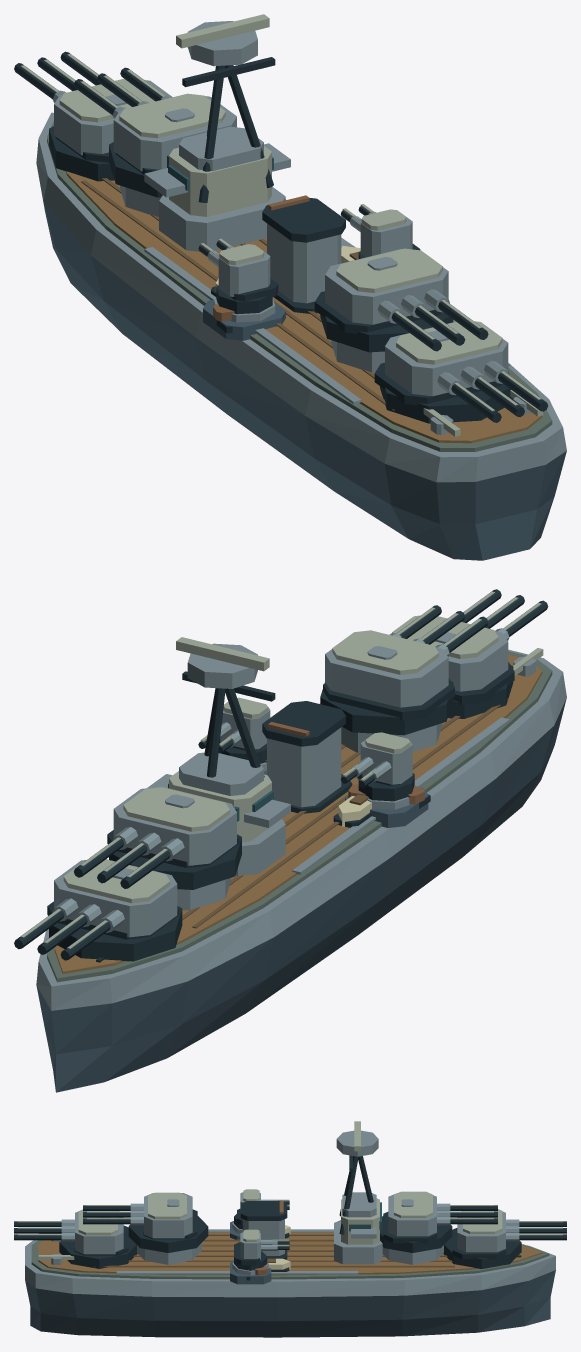
File: historic-arizona.glb
The picture shows the model from 3 angles, top to bottom: view 1: azimuth 30°, elevation 25°; view 2: azimuth 150°, elevation 25°; view 3: azimuth 270°, elevation 25°; orthographic projection. The views are drawn at different scales.
Parts seen in each view (by area): view 1: historic-arizona-historic-arizona-geometry, historic-arizona-part_bridge.007-geometry, historic-arizona-turret_main_2.005-geometry, historic-arizona-turret_main_3.002-geometry, historic-arizona-turret_main_1.005-geometry, historic-arizona-historic_funnel_0.008-geometry, historic-arizona-turret_main_0.006-geometry, historic-arizona-turret_aa_aa-port.009-geometry, historic-arizona-turret_aa_aa-starboard.007-geometry, historic-arizona-part_aa-port.009-geometry; view 2: historic-arizona-historic-arizona-geometry, historic-arizona-turret_main_2.005-geometry, historic-arizona-part_bridge.007-geometry, historic-arizona-turret_main_1.005-geometry, historic-arizona-turret_main_0.006-geometry, historic-arizona-historic_funnel_0.008-geometry, historic-arizona-turret_main_3.002-geometry, historic-arizona-turret_aa_aa-port.009-geometry, historic-arizona-turret_aa_aa-starboard.007-geometry, historic-arizona-part_aa-port.009-geometry; view 3: historic-arizona-historic-arizona-geometry, historic-arizona-turret_main_2.005-geometry, historic-arizona-part_bridge.007-geometry, historic-arizona-turret_main_1.005-geometry, historic-arizona-turret_main_0.006-geometry, historic-arizona-turret_main_3.002-geometry, historic-arizona-historic_funnel_0.008-geometry, historic-arizona-turret_aa_aa-starboard.007-geometry, historic-arizona-part_aa-starboard.007-geometry, historic-arizona-turret_aa_aa-port.009-geometry.
Part boxes in pixels (bbox=[...]): historic-arizona-historic-arizona-geometry: bbox=[36, 112, 566, 560]; historic-arizona-part_bridge.007-geometry: bbox=[144, 14, 290, 251]; historic-arizona-turret_main_2.005-geometry: bbox=[314, 248, 488, 352]; historic-arizona-turret_main_3.002-geometry: bbox=[374, 321, 548, 423]; historic-arizona-turret_main_1.005-geometry: bbox=[74, 67, 236, 197]; historic-arizona-historic_funnel_0.008-geometry: bbox=[262, 195, 345, 313]; historic-arizona-turret_main_0.006-geometry: bbox=[14, 51, 171, 181]; historic-arizona-turret_aa_aa-port.009-geometry: bbox=[198, 238, 278, 314]; historic-arizona-turret_aa_aa-starboard.007-geometry: bbox=[340, 204, 420, 258]; historic-arizona-part_aa-port.009-geometry: bbox=[203, 298, 285, 340]; historic-arizona-historic-arizona-geometry: bbox=[36, 648, 566, 1092]; historic-arizona-turret_main_2.005-geometry: bbox=[320, 605, 488, 735]; historic-arizona-part_bridge.007-geometry: bbox=[147, 637, 290, 875]; historic-arizona-turret_main_1.005-geometry: bbox=[74, 786, 241, 889]; historic-arizona-turret_main_0.006-geometry: bbox=[14, 859, 182, 961]; historic-arizona-historic_funnel_0.008-geometry: bbox=[262, 701, 352, 813]; historic-arizona-turret_main_3.002-geometry: bbox=[391, 589, 548, 718]; historic-arizona-turret_aa_aa-port.009-geometry: bbox=[340, 732, 414, 801]; historic-arizona-turret_aa_aa-starboard.007-geometry: bbox=[198, 697, 270, 763]; historic-arizona-part_aa-port.009-geometry: bbox=[345, 785, 428, 827]; historic-arizona-historic-arizona-geometry: bbox=[25, 1225, 555, 1337]; historic-arizona-turret_main_2.005-geometry: bbox=[83, 1192, 208, 1252]; historic-arizona-part_bridge.007-geometry: bbox=[334, 1121, 382, 1264]; historic-arizona-turret_main_1.005-geometry: bbox=[380, 1191, 497, 1252]; historic-arizona-turret_main_0.006-geometry: bbox=[443, 1209, 566, 1268]; historic-arizona-turret_main_3.002-geometry: bbox=[14, 1209, 137, 1268]; historic-arizona-historic_funnel_0.008-geometry: bbox=[234, 1201, 287, 1259]; historic-arizona-turret_aa_aa-starboard.007-geometry: bbox=[234, 1229, 289, 1270]; historic-arizona-part_aa-starboard.007-geometry: bbox=[230, 1261, 271, 1284]; historic-arizona-turret_aa_aa-port.009-geometry: bbox=[234, 1189, 289, 1229].
Size of the model in its own units: 1.24 by 1.84 by 4.99.
